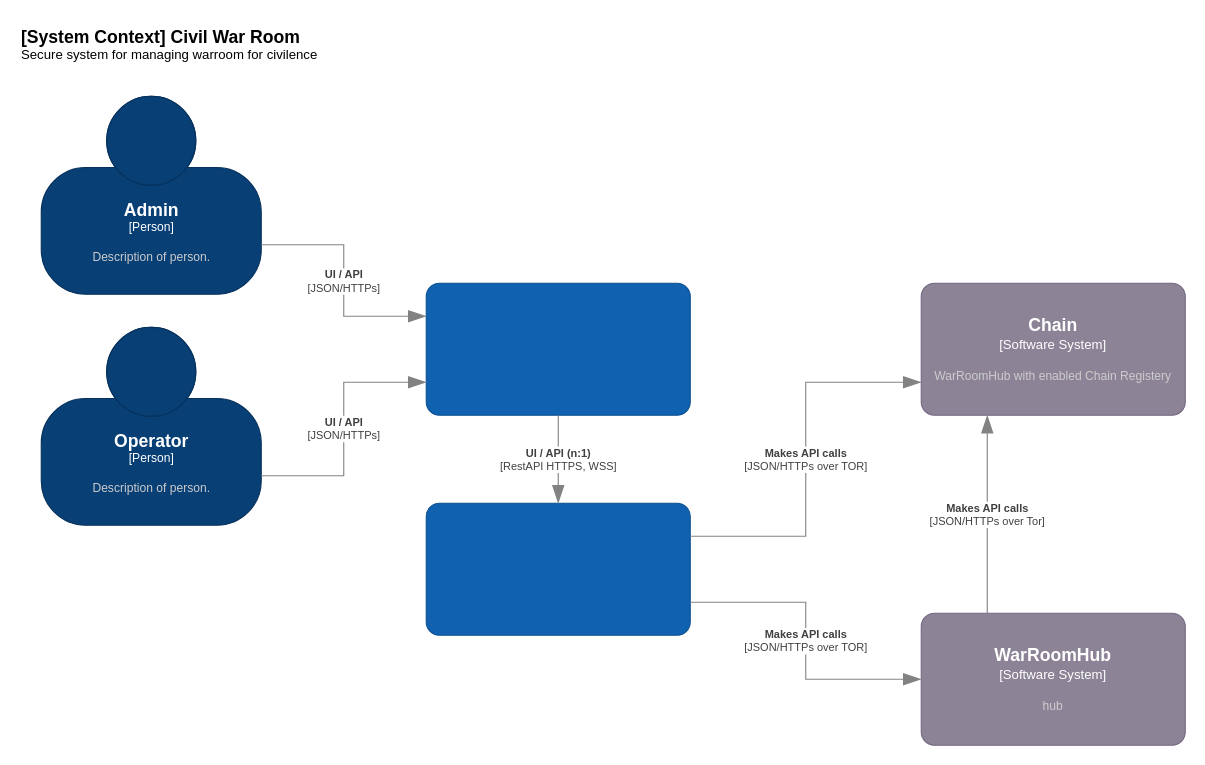
Image size: 1205x765. Some labels were removed from this diagram. Each missing label, with the centre of its shape:
"WarRoom UI [Software System] (UI) , First persistence, Availability," belongs at [557,348].
"WarRoomHub [Software System] Hub for connectivty" belongs at [557,568].
